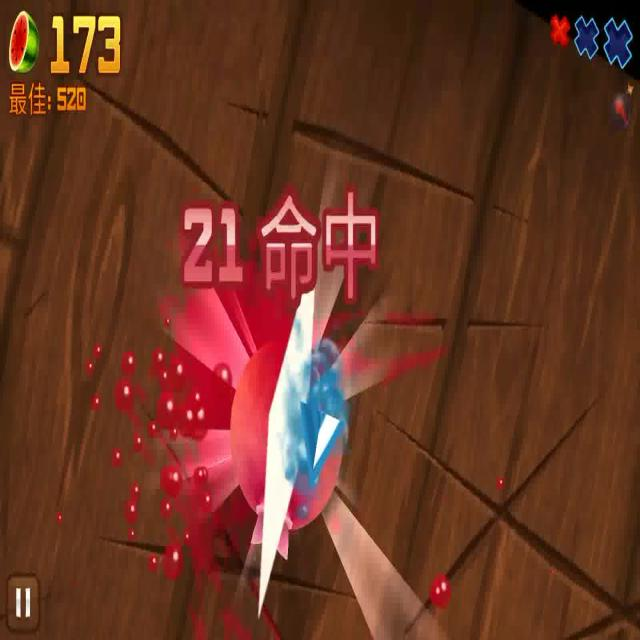fruit: (231, 346, 352, 528)
